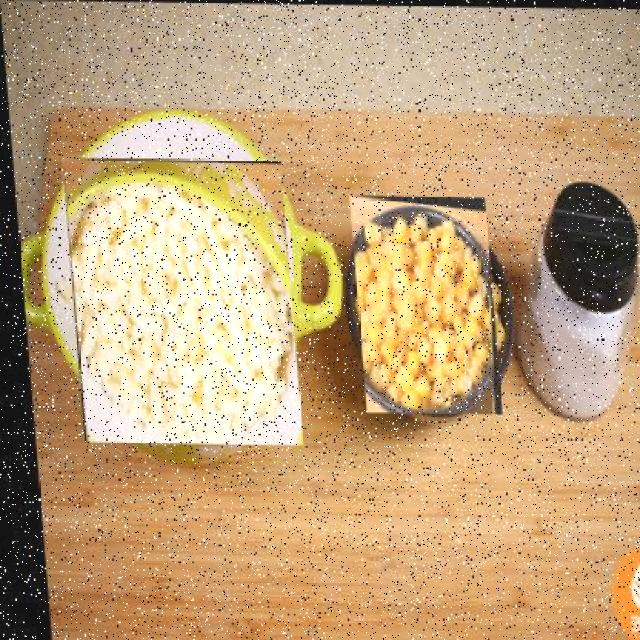Cheese: (59, 157, 298, 446)
Corn: (346, 196, 497, 416)
